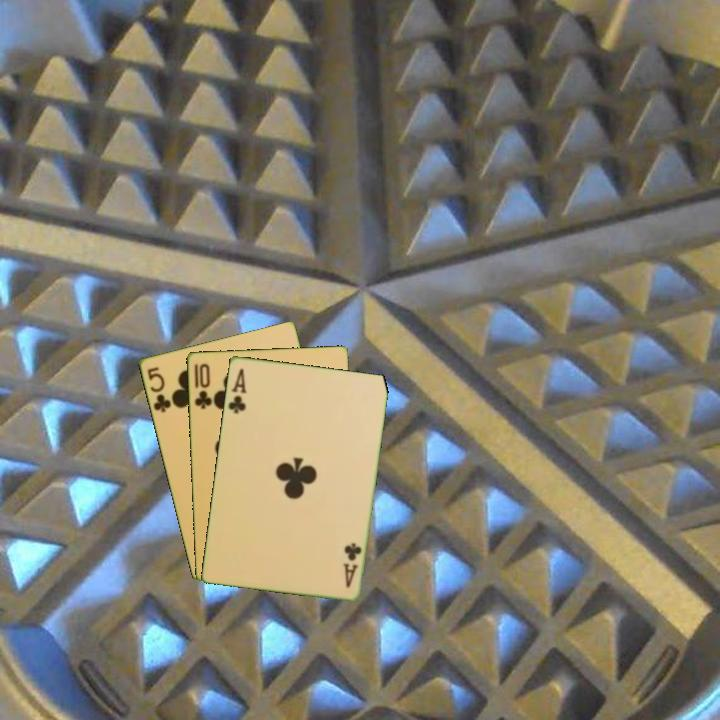10c: (191, 360, 214, 412)
5c: (143, 363, 174, 415)
Ac: (224, 365, 249, 416), (339, 539, 364, 590)
